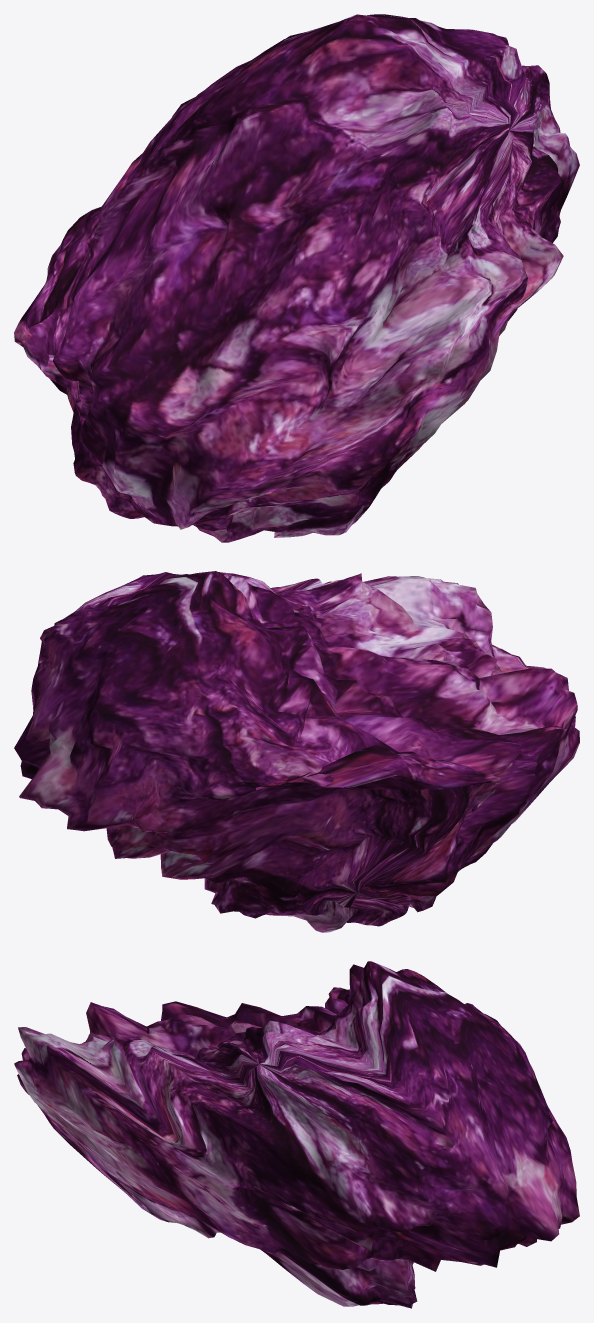
Rendered from meteor.FBX.
The picture shows the model from 3 angles, top to bottom: view 1: azimuth 30°, elevation 25°; view 2: azimuth 150°, elevation 25°; view 3: azimuth 270°, elevation 25°; orthographic projection. The views are drawn at different scales.
Visible parts, largest first — view 1: Sphere001; view 2: Sphere001; view 3: Sphere001.
Part boxes in pixels (left/top/right/bottom): Sphere001: left=14, top=14, right=579, bottom=542; Sphere001: left=14, top=571, right=579, bottom=932; Sphere001: left=14, top=961, right=579, bottom=1308.
Size of the model in its own units: 37.46 by 28.19 by 38.64.
Materials: 1 (1 with a texture image).
